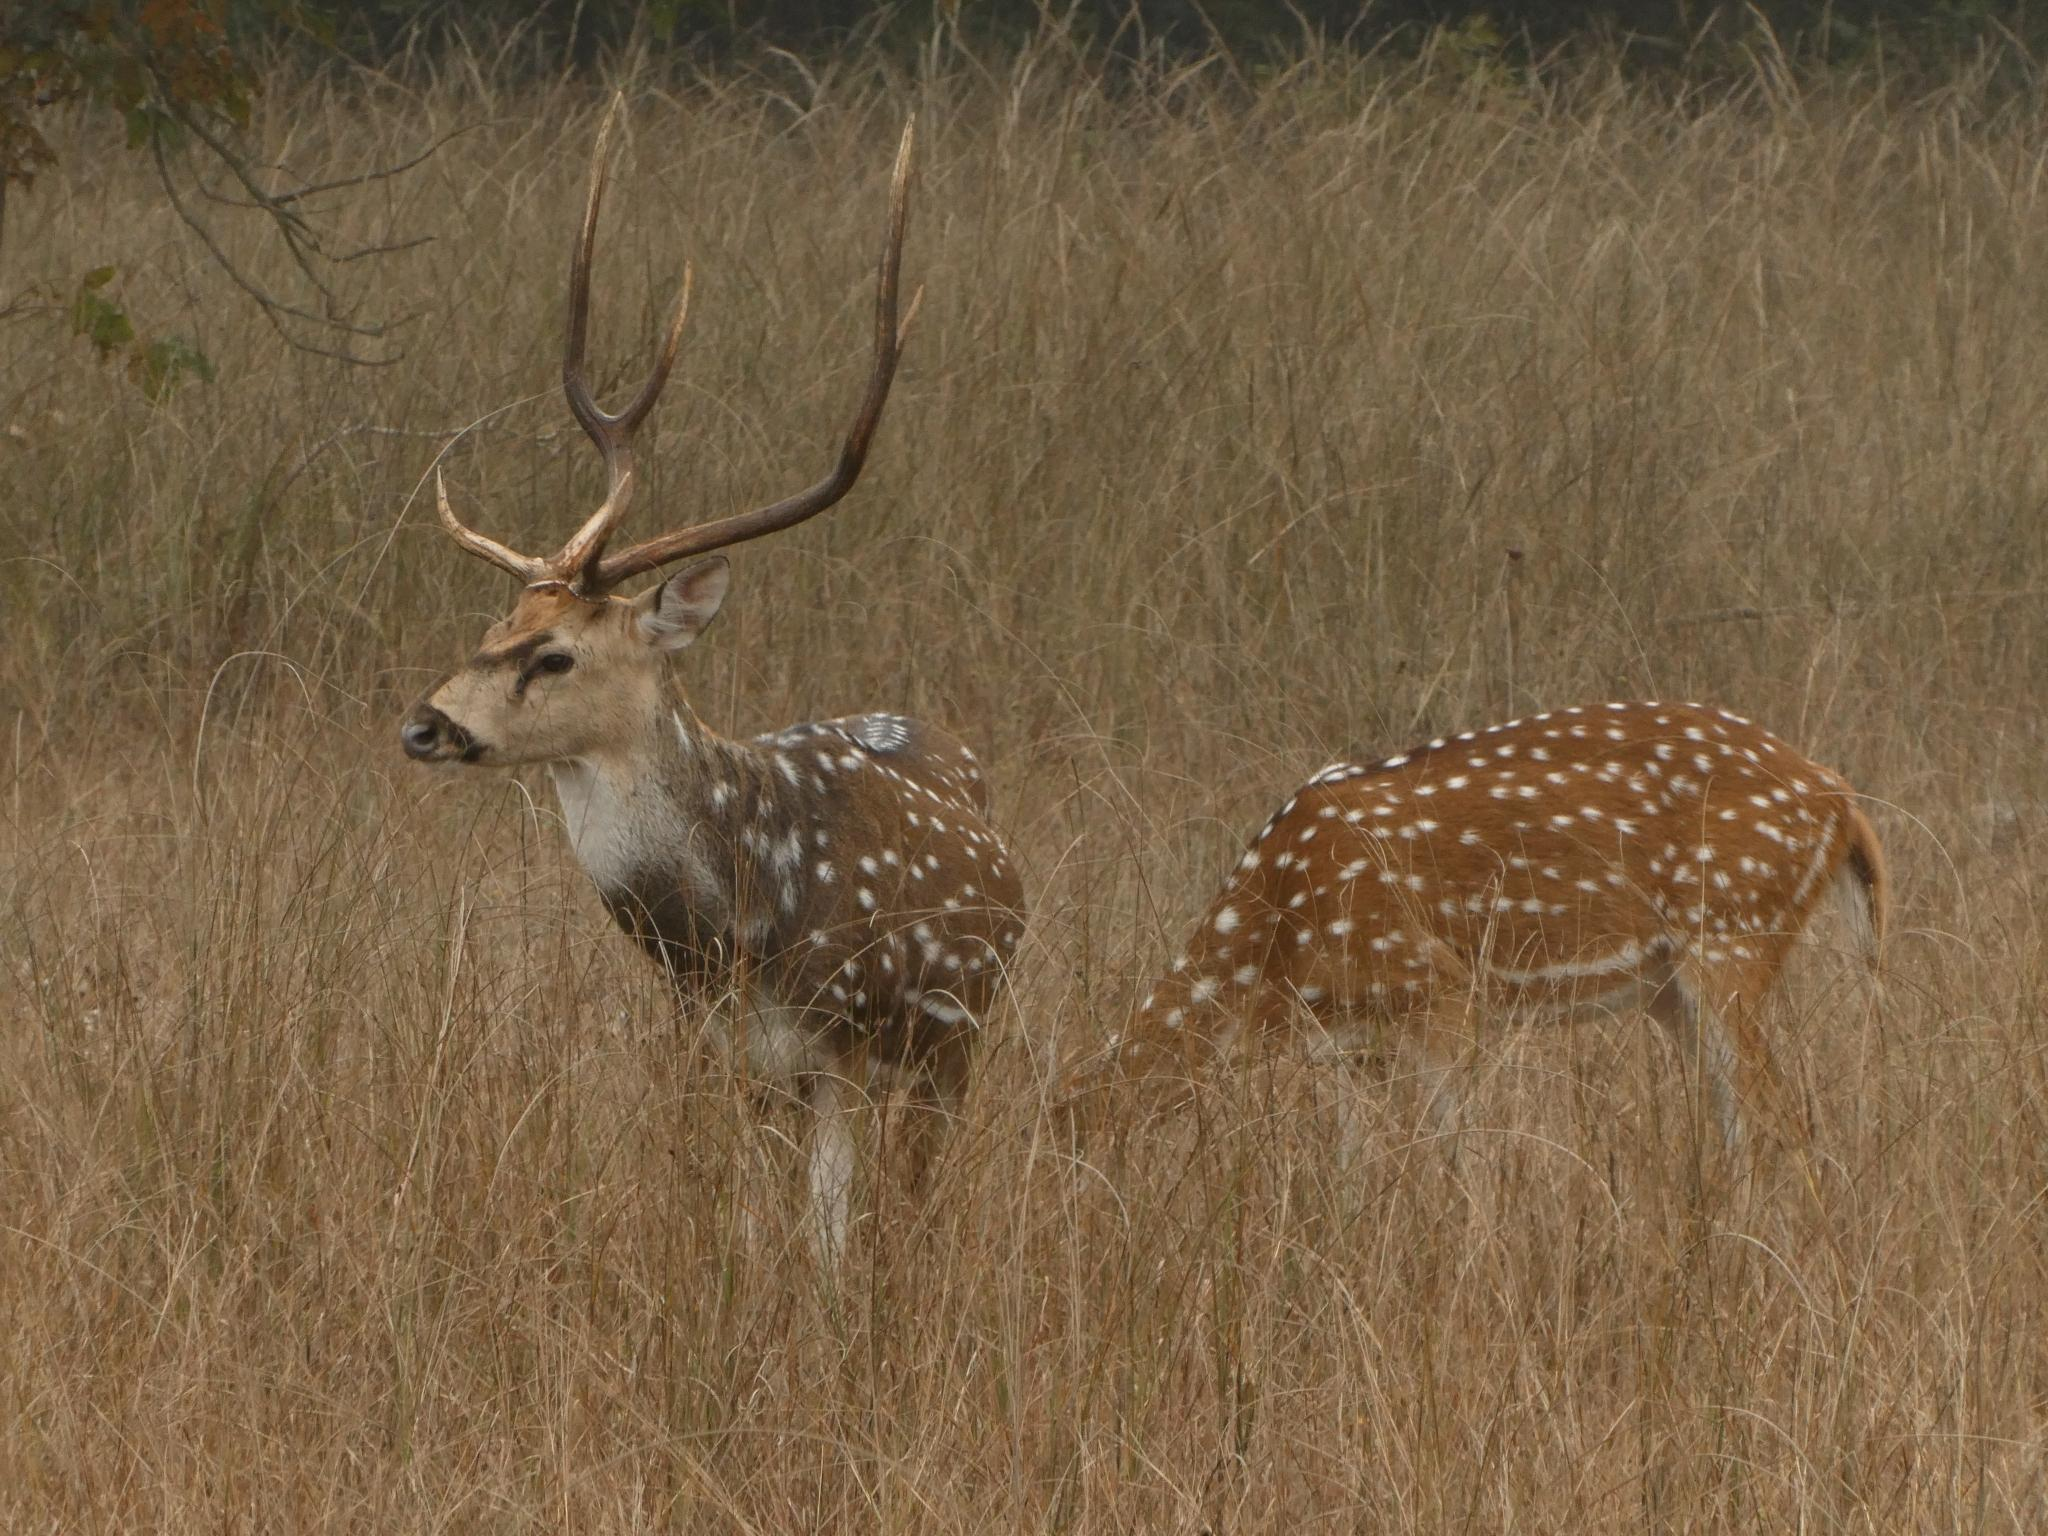Deer: (402, 121, 1022, 1258), (1121, 702, 1888, 1091)
